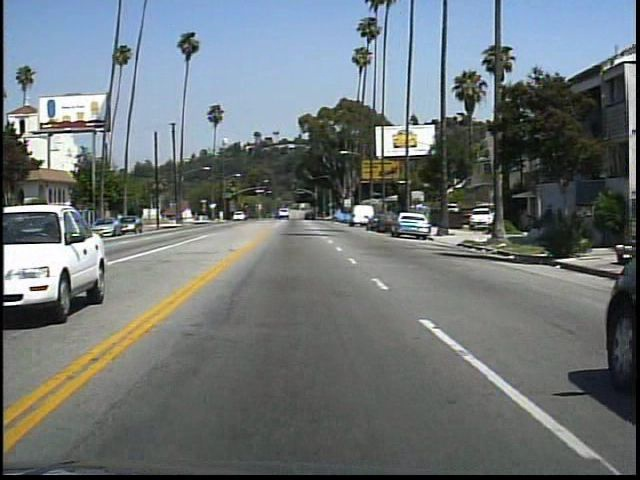person: (533, 198, 558, 254)
